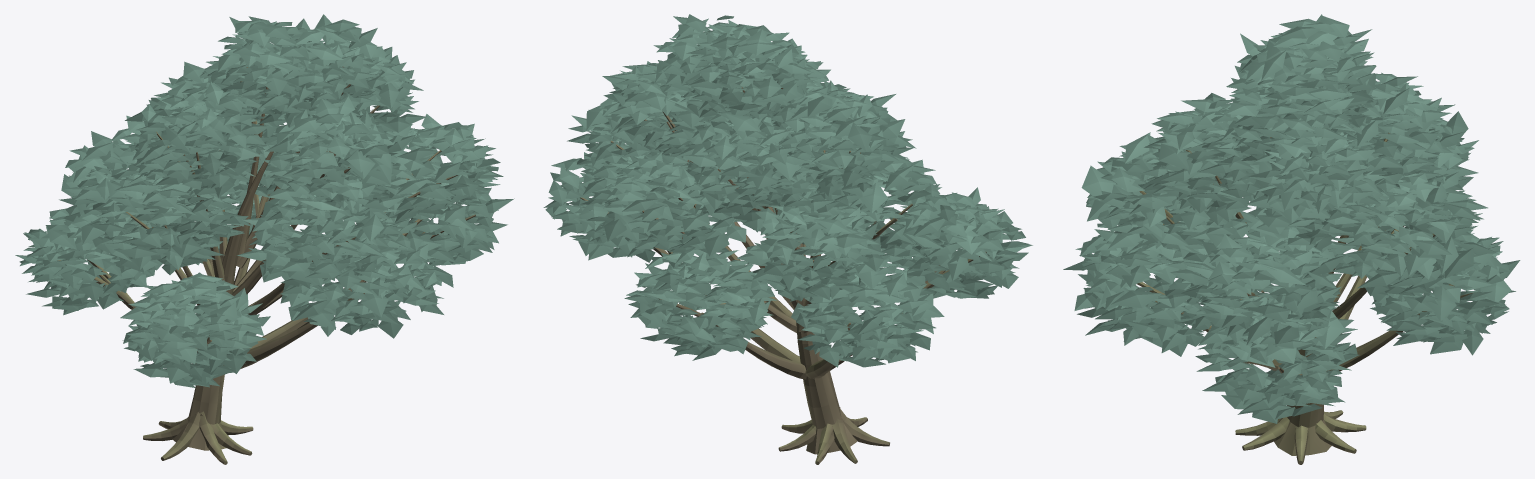
File: 04_Windward_Tree.glb
The picture shows the model from 3 angles, left to right: view 1: azimuth 30°, elevation 25°; view 2: azimuth 150°, elevation 25°; view 3: azimuth 270°, elevation 25°; orthographic projection. The views are drawn at different scales.
Parts seen in each view (by area): view 1: Canopy.003, Trunk.003; view 2: Canopy.003, Trunk.003; view 3: Canopy.003, Trunk.003.
Part boxes in pixels (x1=…): Canopy.003: x1=15, y1=14, x2=514, y2=387; Trunk.003: x1=57, y1=66, x2=475, y2=464; Canopy.003: x1=543, y1=14, x2=1032, y2=367; Trunk.003: x1=580, y1=87, x2=986, y2=464; Canopy.003: x1=1063, y1=14, x2=1520, y2=423; Trunk.003: x1=1137, y1=132, x2=1473, y2=464.
Size of the model in its own units: 7.92 by 7.02 by 6.38.
